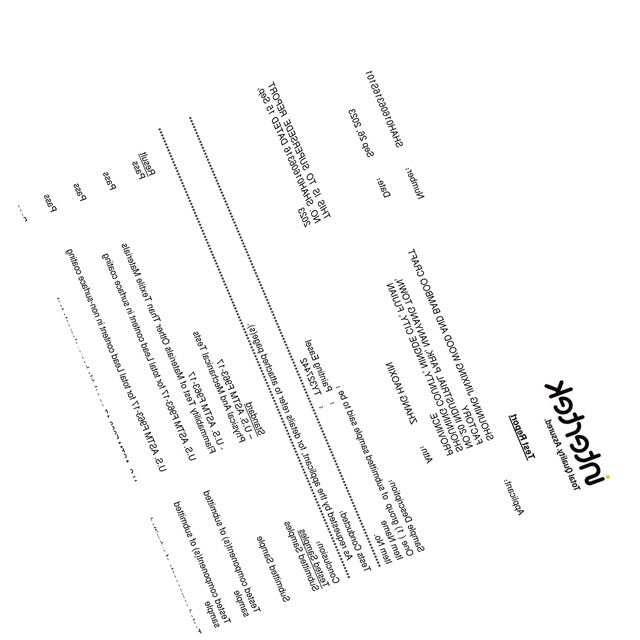intertek: (541, 374, 613, 491)
